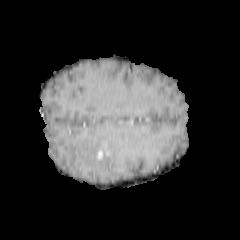glioma: (78, 134, 116, 169)
